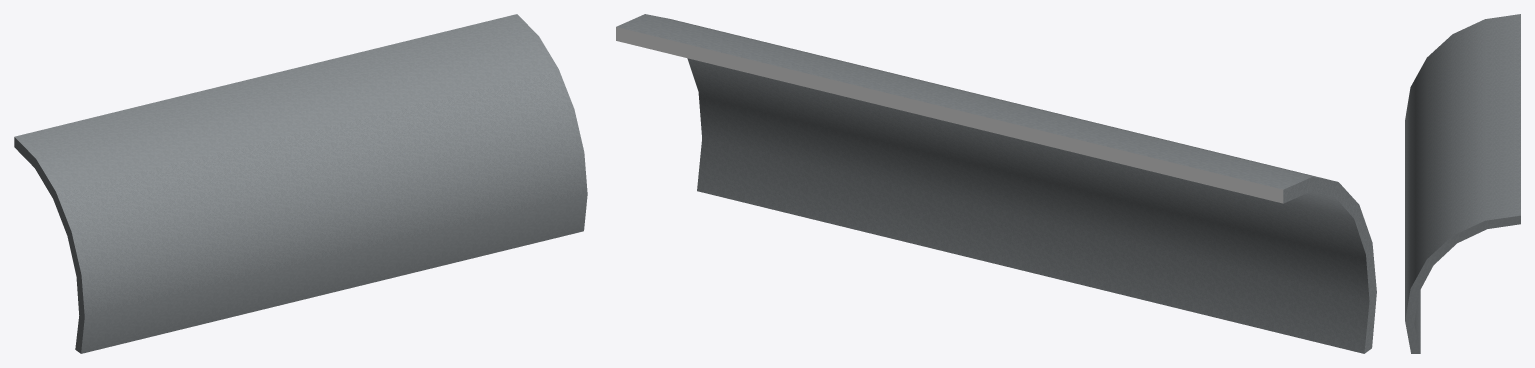
File: TunnelWall20m-R.dae
3 views of the same model, side by side, from view 1: azimuth 30°, elevation 25°; view 2: azimuth 150°, elevation 25°; view 3: azimuth 270°, elevation 25° (orthographic). The views are drawn at different scales.
Parts seen in each view (by area): view 1: SketchUp; view 2: SketchUp (×2); view 3: SketchUp.
Part boxes in pixels (box(x1,y1,x2,y2)): SketchUp: box(14, 14, 587, 353); SketchUp (×2): box(616, 14, 1376, 353); SketchUp: box(1405, 14, 1520, 353).
Bounding box in the file's own units: 787 × 191 × 252.
Materials: 2 (1 with a texture image).
